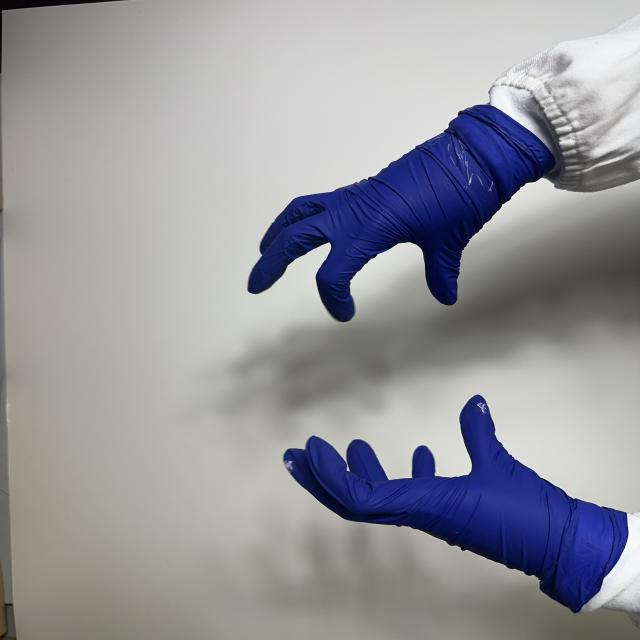gloves_contaminated: (284, 396, 630, 612), (248, 106, 554, 322)
